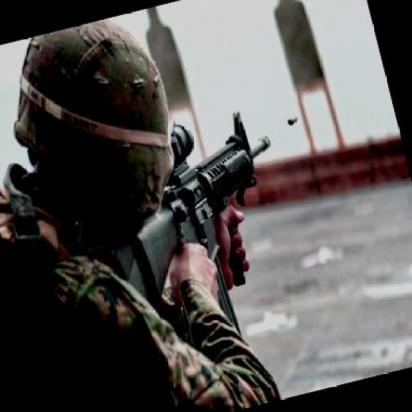Gun: (91, 98, 318, 366)
